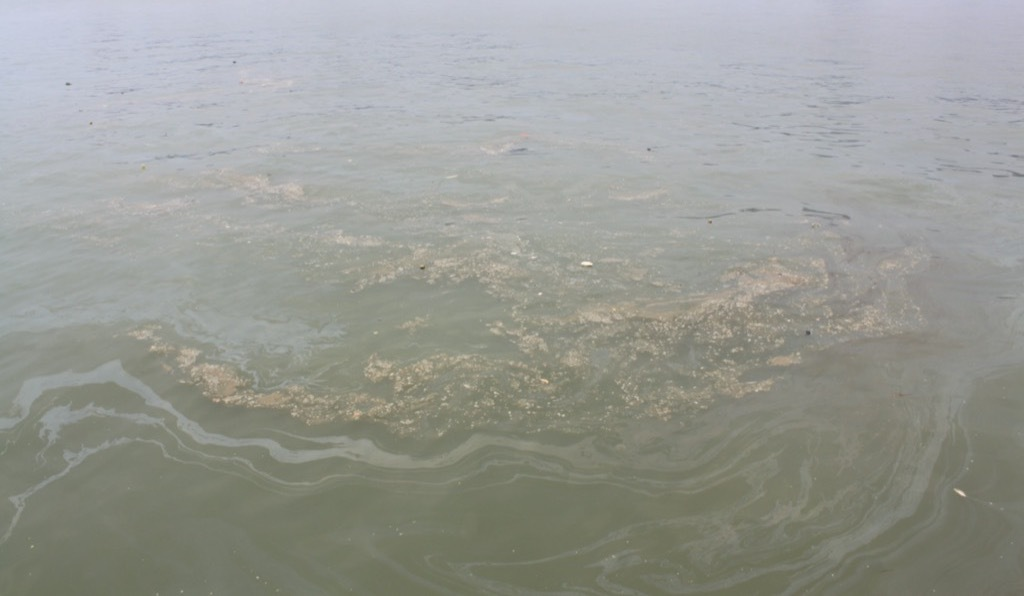organic: (799, 323, 822, 343), (640, 142, 662, 158), (223, 57, 245, 71), (83, 116, 101, 132), (701, 214, 720, 229), (59, 75, 74, 92), (135, 161, 154, 174)
plastic: (400, 252, 441, 289), (570, 244, 606, 283)
